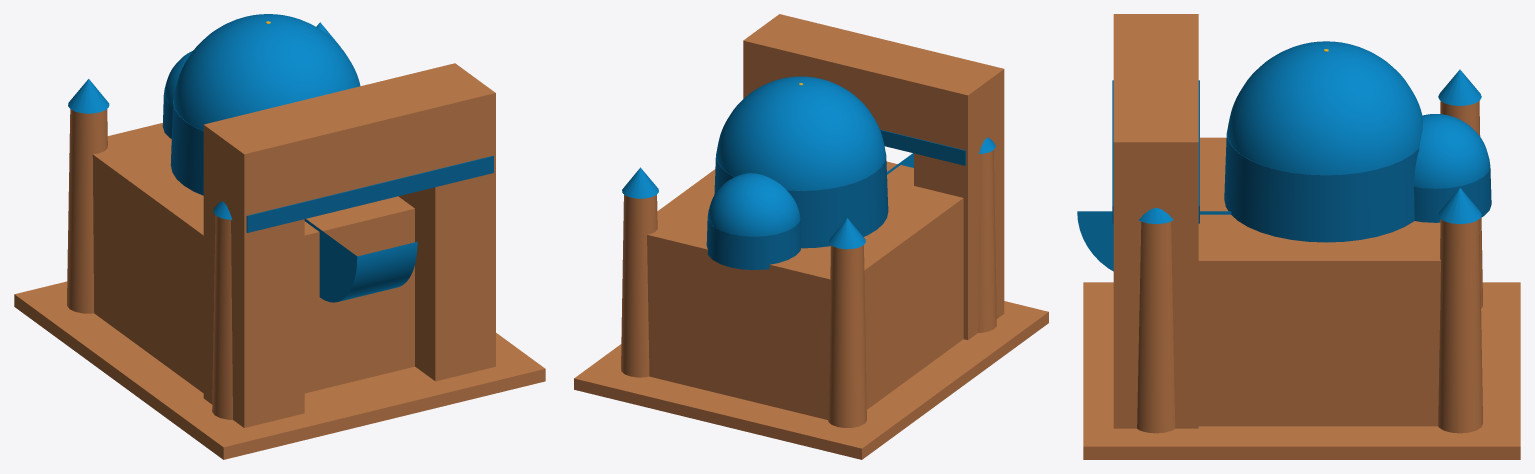
Rendered from yasawi.glb.
3 views of the same model, side by side, from view 1: azimuth 30°, elevation 25°; view 2: azimuth 150°, elevation 25°; view 3: azimuth 270°, elevation 25° (orthographic). The views are drawn at different scales.
Bounding box in the file's own units: 32 × 29.75 × 36.5.
